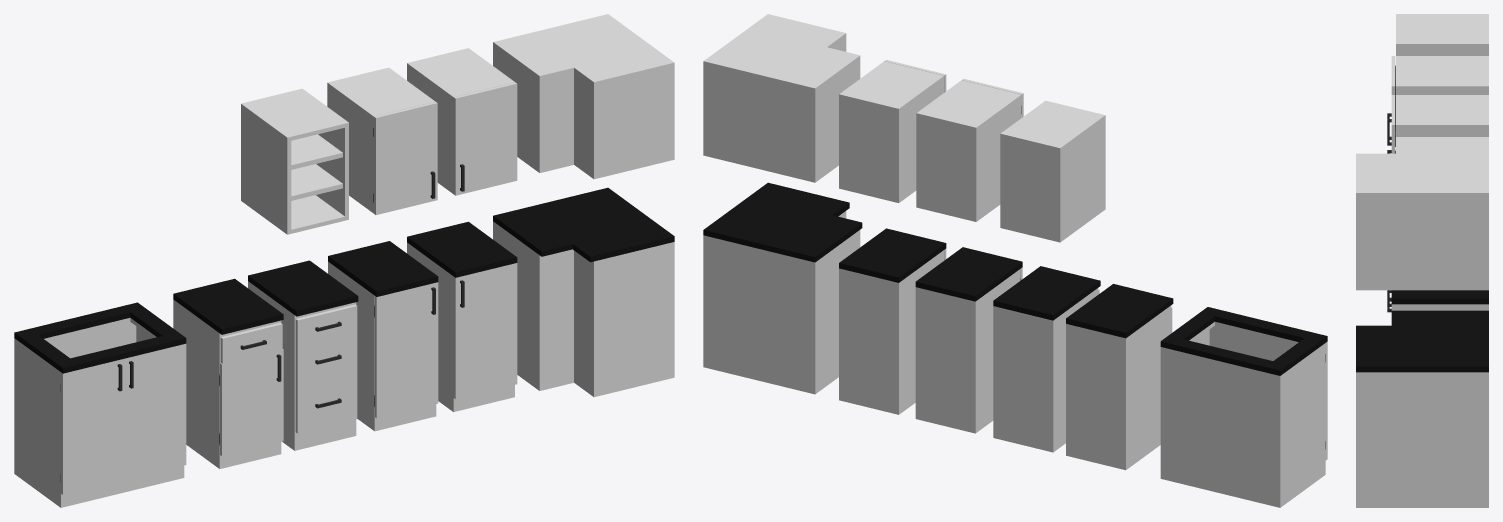
File: CabinetEset.fbx
The picture shows the model from 3 angles, left to right: view 1: azimuth 30°, elevation 25°; view 2: azimuth 150°, elevation 25°; view 3: azimuth 270°, elevation 25°; orthographic projection. The views are drawn at different scales.
Visible parts, largest first — view 1: CabinetECorner01, CabinetECorner02, CabinetE_Sink, CabinetE07, CabinetE04, CabinetE01Door, CabinetE02Door, CabinetE_SinkDoor02, CabinetE_SinkDoor01, CabinetE02, CabinetE01, CabinetE03 (+9 smaller); view 2: CabinetE_Sink, CabinetECorner01, CabinetECorner02, CabinetE04, CabinetE02, CabinetE01, CabinetE03, CabinetE07, CabinetE06, CabinetE05, CabinetE_SinkDoor01, CabinetE_SinkDoor02; view 3: CabinetECorner01, CabinetECorner02, CabinetE05, CabinetE07, CabinetE06, CabinetE01, CabinetE05Door, CabinetE06Door.
Boxes of the visible parts, bbox=[...] form: CabinetECorner01: bbox=[493, 187, 674, 397]; CabinetECorner02: bbox=[493, 14, 674, 179]; CabinetE_Sink: bbox=[14, 302, 186, 507]; CabinetE07: bbox=[241, 88, 348, 234]; CabinetE04: bbox=[173, 278, 283, 468]; CabinetE01Door: bbox=[453, 263, 517, 399]; CabinetE02Door: bbox=[374, 282, 438, 418]; CabinetE_SinkDoor02: bbox=[60, 358, 124, 494]; CabinetE_SinkDoor01: bbox=[124, 343, 186, 479]; CabinetE02: bbox=[328, 241, 438, 431]; CabinetE01: bbox=[407, 221, 517, 411]; CabinetE03: bbox=[248, 260, 358, 450]; CabinetE_Sink: bbox=[1160, 307, 1327, 507]; CabinetECorner01: bbox=[703, 182, 862, 394]; CabinetECorner02: bbox=[703, 14, 860, 182]; CabinetE04: bbox=[1066, 284, 1173, 470]; CabinetE02: bbox=[915, 247, 1022, 433]; CabinetE01: bbox=[839, 228, 946, 414]; CabinetE03: bbox=[993, 266, 1100, 452]; CabinetE07: bbox=[1000, 100, 1105, 242]; CabinetE06: bbox=[916, 80, 1021, 221]; CabinetE05: bbox=[839, 61, 943, 202]; CabinetE_SinkDoor01: bbox=[1209, 325, 1265, 359]; CabinetE_SinkDoor02: bbox=[1265, 338, 1327, 460]; CabinetECorner01: bbox=[1356, 310, 1488, 507]; CabinetECorner02: bbox=[1356, 137, 1488, 290]; CabinetE05: bbox=[1395, 95, 1488, 146]; CabinetE07: bbox=[1396, 14, 1488, 55]; CabinetE06: bbox=[1395, 56, 1488, 132]; CabinetE01: bbox=[1391, 290, 1488, 310]; CabinetE05Door: bbox=[1391, 95, 1395, 153]; CabinetE06Door: bbox=[1387, 56, 1395, 153].
Bounding box in the file's own units: 403 × 204 × 78.05.
